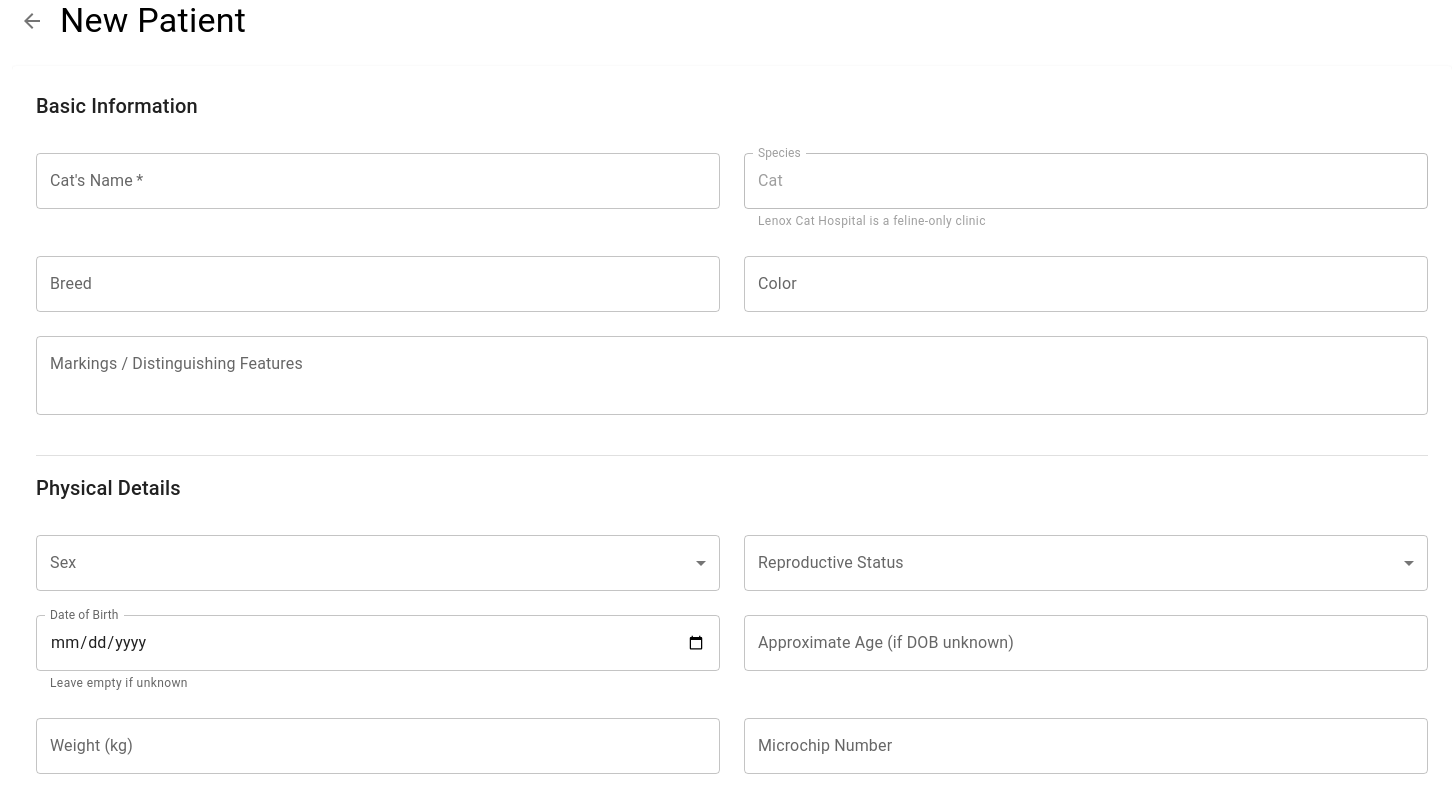
Test: PatientForm Component › Create Mode › shows error message on create failure
expect the heading "New Patient" is shown: met, box [60,0,246,42]
Type "Fluffy" into the field labelled "Cat's Name *".
click(378, 181); type("Fluffy")  # box [36,153,720,209]
(page scrolled)
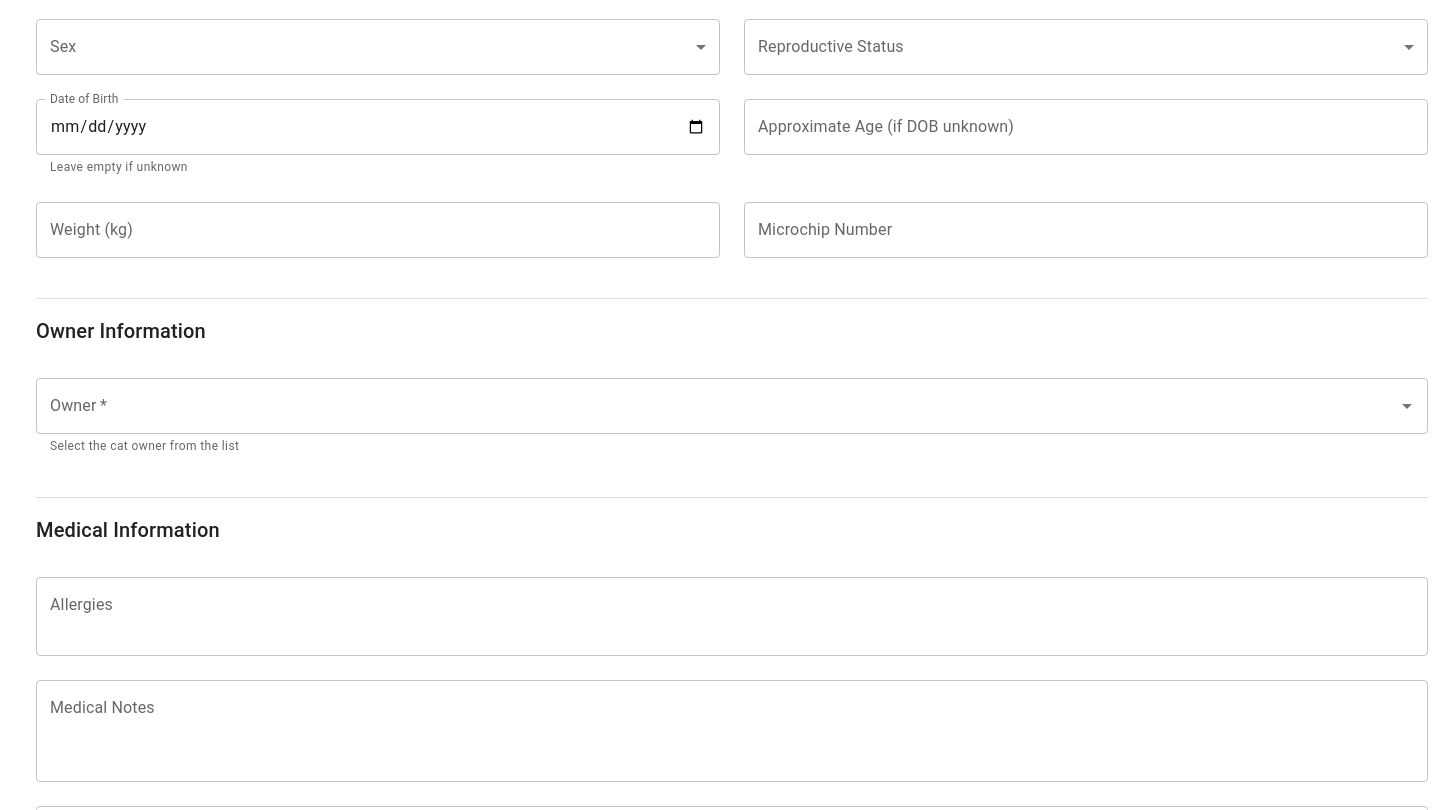
Type "John" into the dropdown labelled "Owner *".
click(717, 406); type("John")  # box [45,387,1389,425]
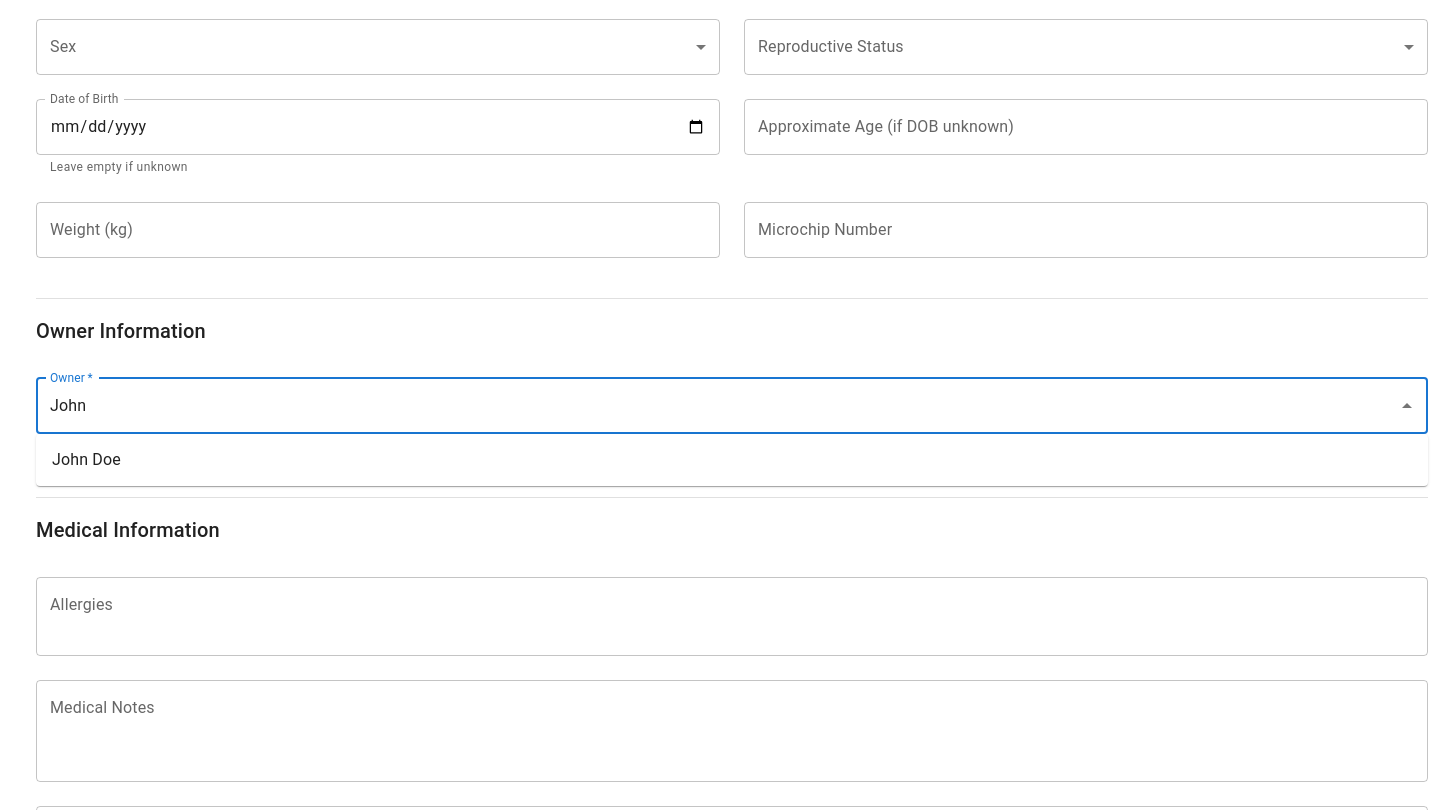
expect the option "John Doe" is shown: met
Click the option "John Doe".
click(86, 460)  # box [52,450,121,469]
(page scrolled)
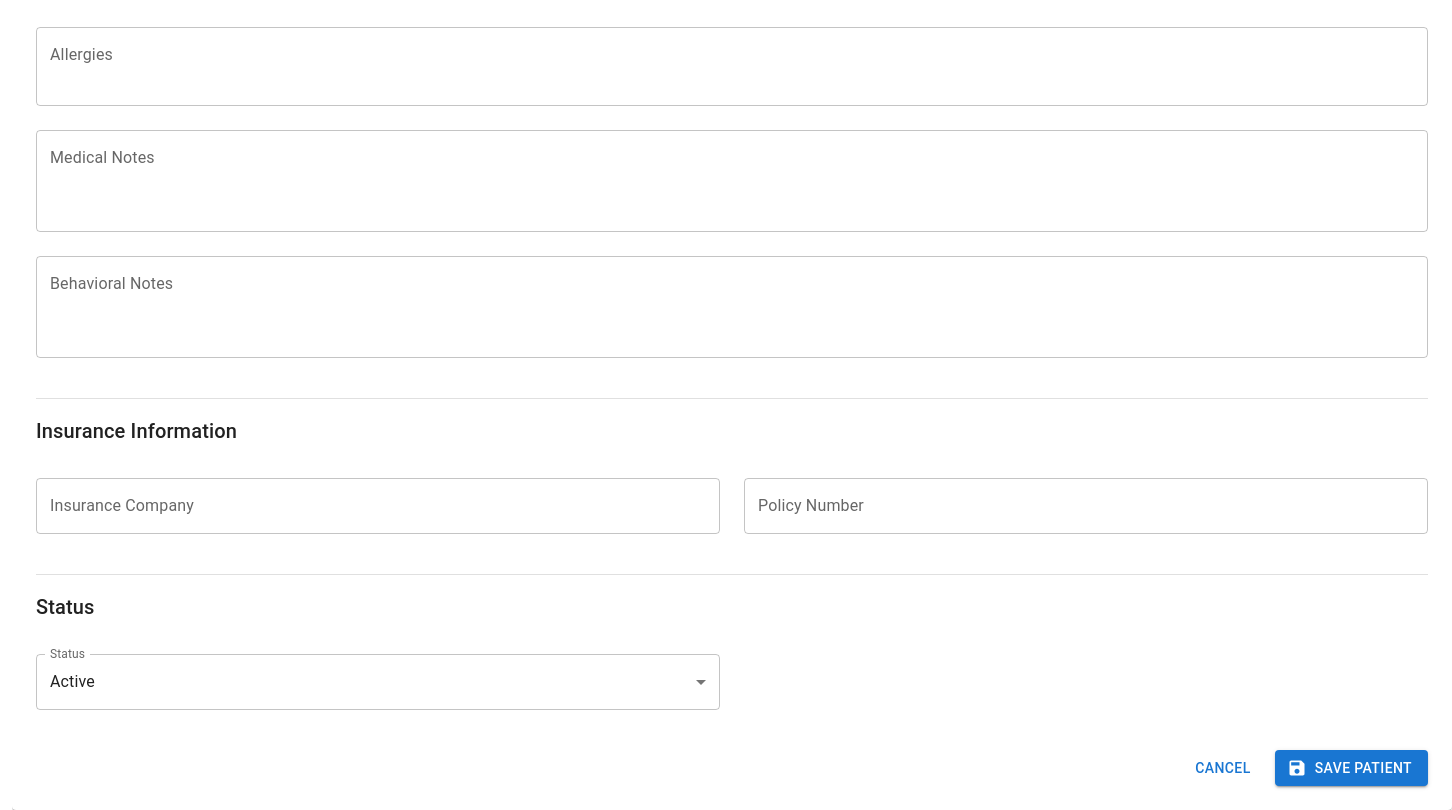
Click the button "Save Patient".
click(1351, 768)  # box [1275,750,1428,786]
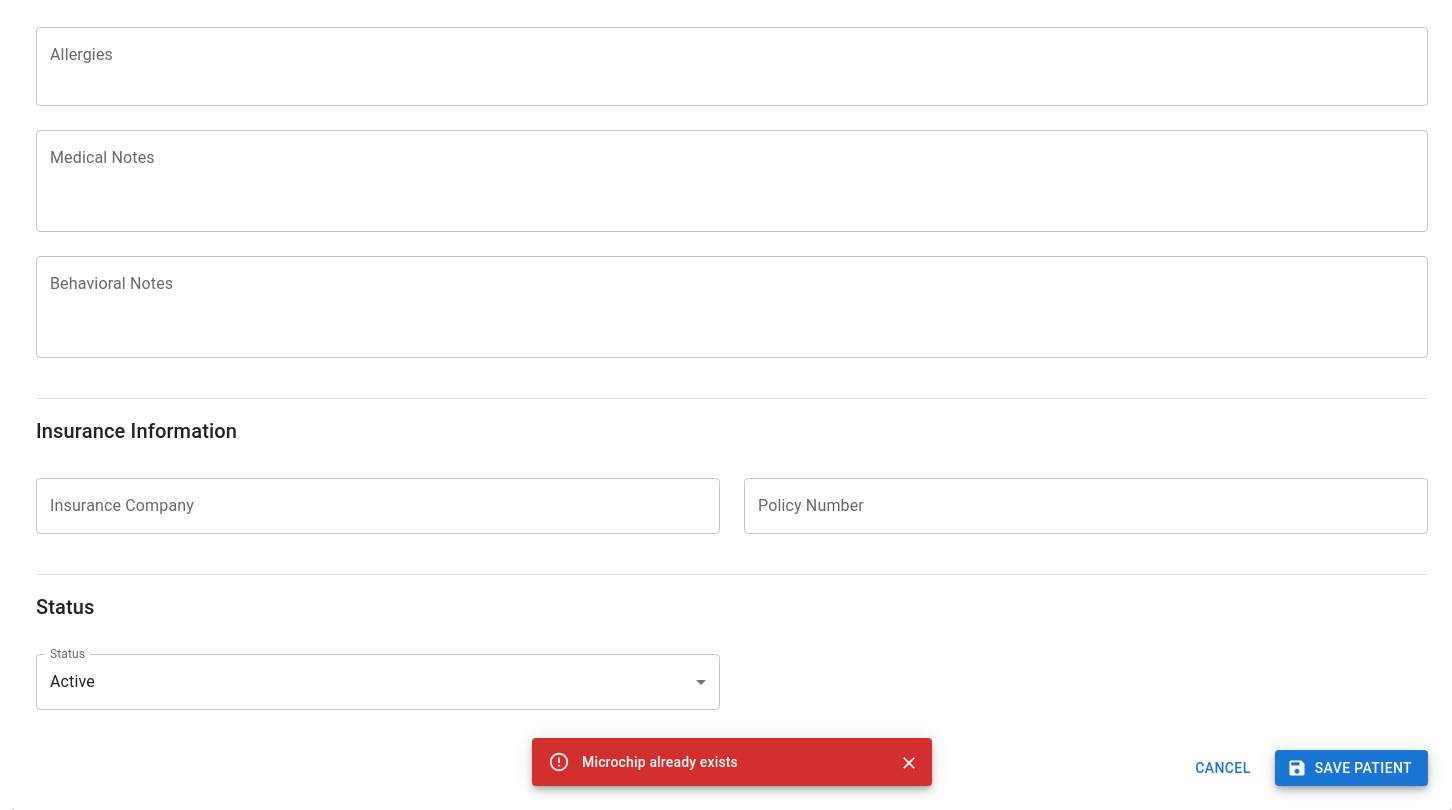
expect the text "Microchip already exists" is shown: met, box [582,754,738,770]
